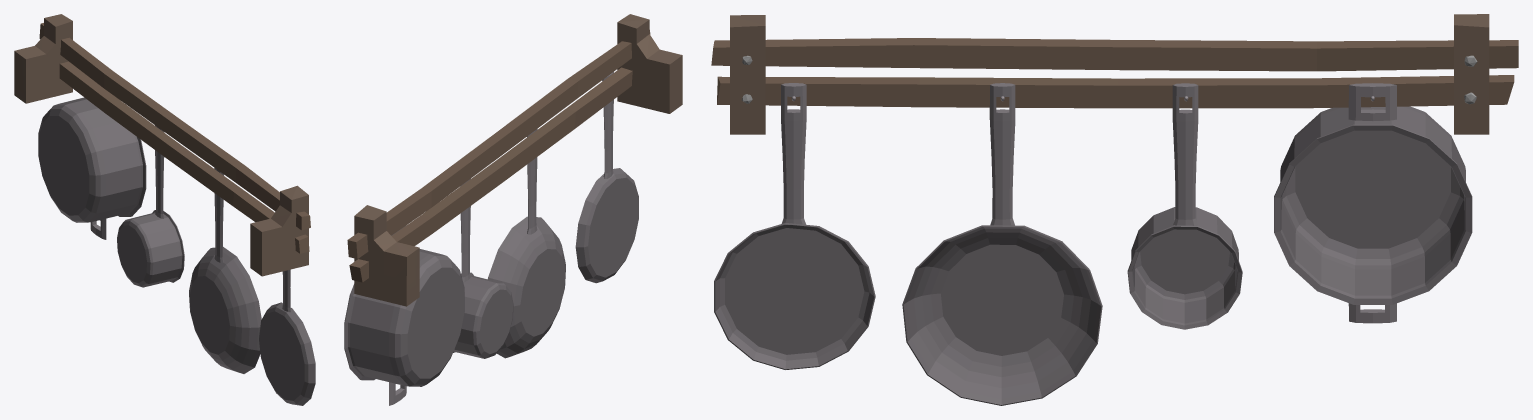
Rendered from portapadelle2.fbx.
3 views of the same model, side by side, from view 1: azimuth 30°, elevation 25°; view 2: azimuth 150°, elevation 25°; view 3: azimuth 270°, elevation 25° (orthographic). The views are drawn at different scales.
Parts seen in each view (by area): view 1: Cube.033, Pentola 4.001, Padella 3.001, Padella 1.001, Pentola 1.001, Cube.001, Cube.032, Manico Padella 3.001, Manico Pentola 1.001, Manico Padella 1.001; view 2: Cube.033, Pentola 4.001, Padella 3.001, Padella 1.001, Cube.032, Cube.001, Pentola 1.001, Manico Padella 1.001, Manico Padella 3.001, Manico Pentola 1.001; view 3: Cube.033, Pentola 4.001, Padella 3.001, Padella 1.001, Pentola 1.001, Cube.001, Cube.032, Manico Pentola 1.001, Manico Padella 3.001, Manico Padella 1.001, Manico Pentola 4.003, Manico Pentola 4.004.
Boxes of the visible parts, x1,y1,x2,y2 form: Cube.033: [39, 23, 310, 253]; Pentola 4.001: [38, 97, 146, 222]; Padella 3.001: [189, 247, 261, 373]; Padella 1.001: [259, 302, 315, 405]; Pentola 1.001: [117, 210, 184, 287]; Cube.001: [250, 185, 308, 276]; Cube.032: [14, 14, 72, 103]; Manico Padella 3.001: [214, 168, 223, 262]; Manico Pentola 1.001: [155, 125, 164, 218]; Manico Padella 1.001: [282, 269, 290, 312]; Cube.033: [347, 30, 650, 282]; Pentola 4.001: [344, 249, 464, 386]; Padella 3.001: [488, 216, 565, 358]; Padella 1.001: [575, 168, 638, 283]; Cube.032: [354, 205, 419, 306]; Cube.001: [617, 14, 682, 113]; Pentola 1.001: [453, 272, 513, 358]; Manico Padella 1.001: [603, 72, 613, 178]; Manico Padella 3.001: [527, 129, 537, 234]; Manico Pentola 1.001: [460, 178, 470, 282]; Cube.033: [711, 38, 1518, 108]; Pentola 4.001: [1274, 106, 1472, 304]; Padella 3.001: [902, 225, 1102, 405]; Padella 1.001: [714, 223, 875, 369]; Pentola 1.001: [1127, 207, 1242, 329]; Cube.001: [730, 15, 765, 134]; Cube.032: [1454, 14, 1489, 134]; Manico Pentola 1.001: [1172, 83, 1198, 225]; Manico Padella 3.001: [989, 83, 1015, 225]; Manico Padella 1.001: [781, 83, 806, 224]; Manico Pentola 4.003: [1348, 83, 1396, 120]; Manico Pentola 4.004: [1348, 303, 1396, 323].
Bounding box in the file's own units: 150 × 566 × 1110.
